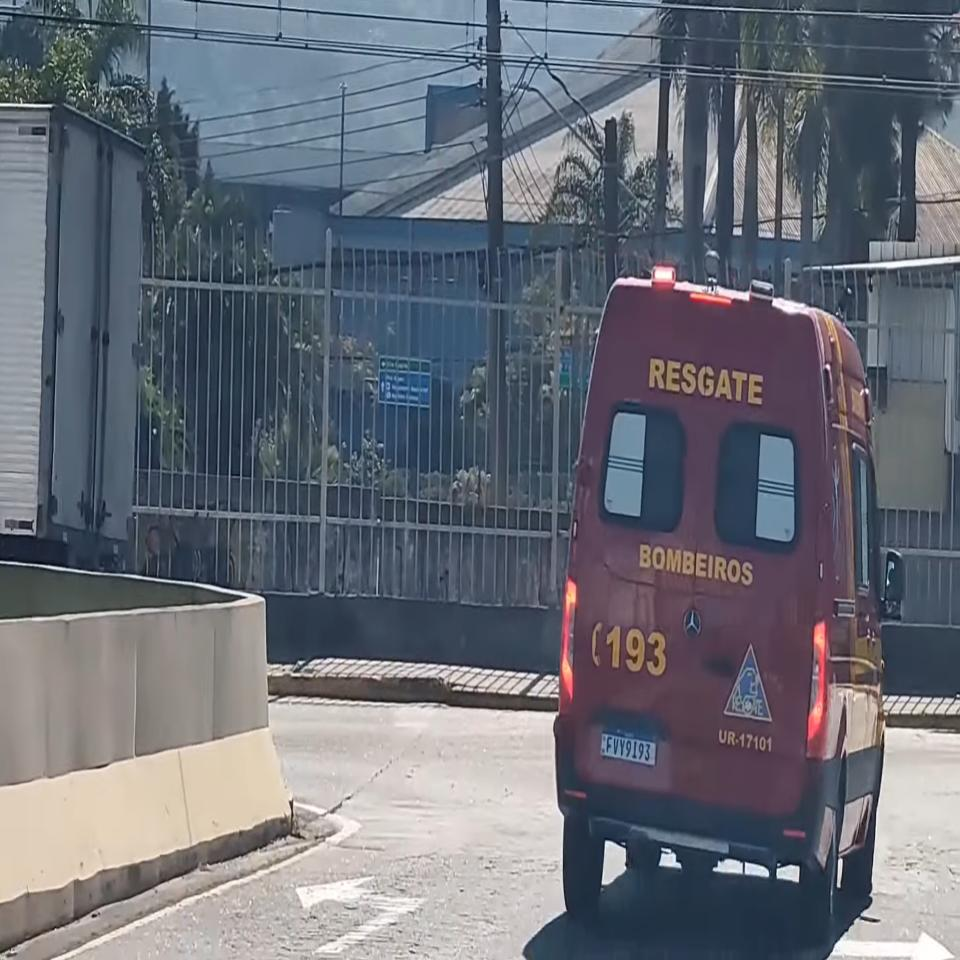viatura: (554, 263, 906, 934)
